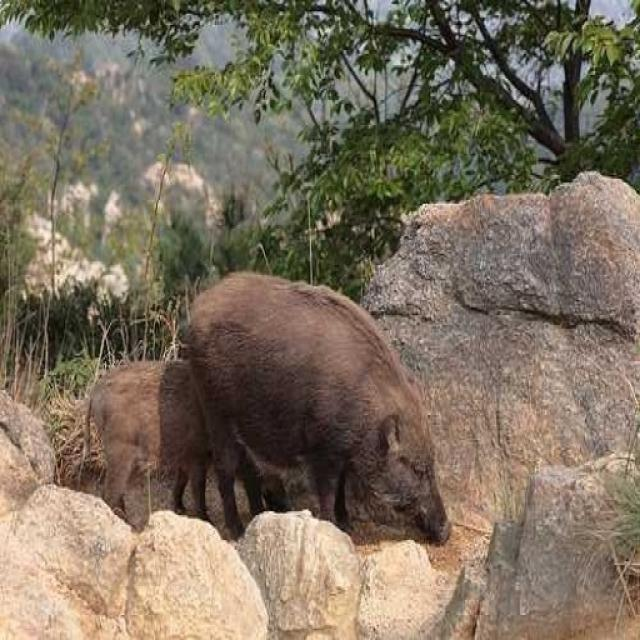pig: (154, 202, 496, 587)
